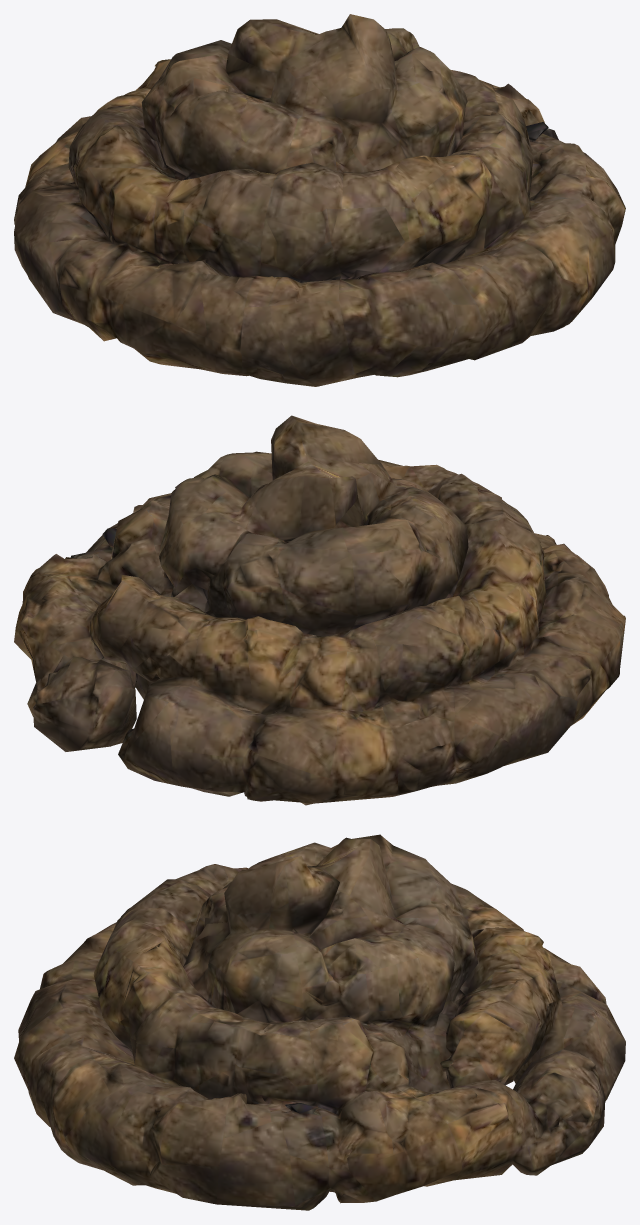
Rendered from poop.glb.
The picture shows the model from 3 angles, top to bottom: view 1: azimuth 30°, elevation 25°; view 2: azimuth 150°, elevation 25°; view 3: azimuth 270°, elevation 25°; orthographic projection.
Size of the model in its own units: 1.84 by 0.8922 by 1.89.
Materials: 1 (1 with a texture image).
